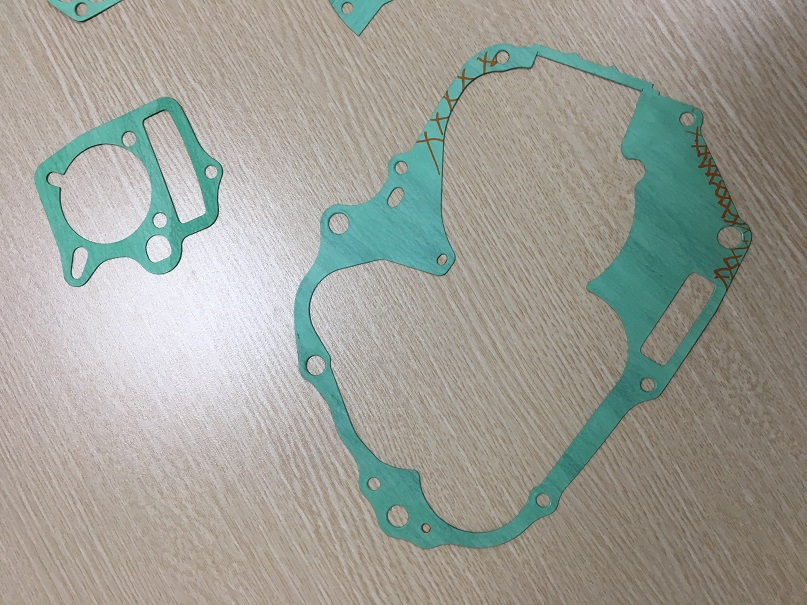type3: (277, 35, 771, 556)
type4: (34, 88, 228, 290)
